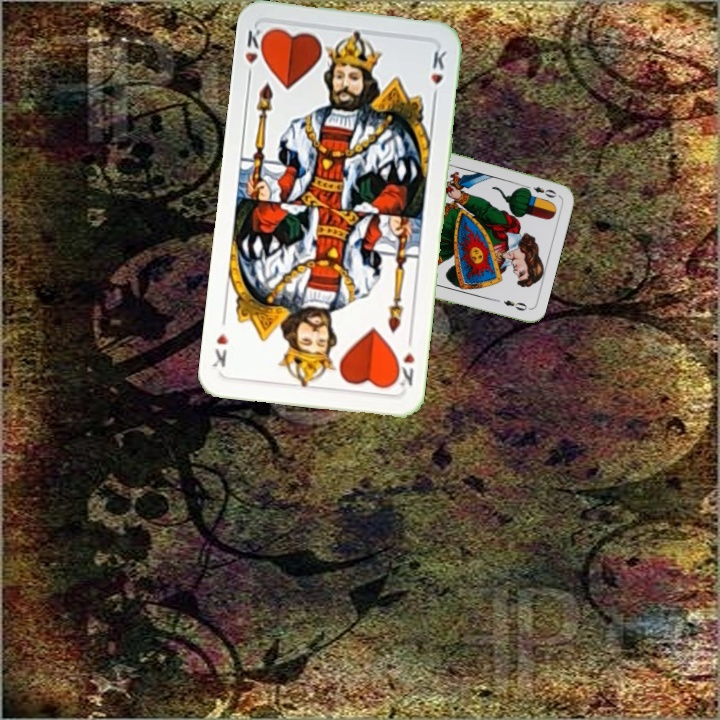EO: (520, 181, 559, 200)
HK: (241, 25, 270, 83), (390, 333, 418, 389)
